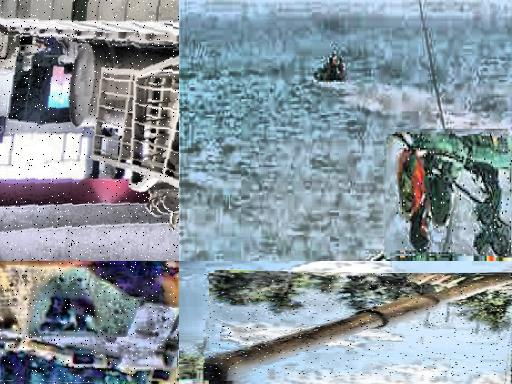tanks: (1, 1, 180, 201), (204, 275, 512, 378), (1, 262, 180, 384), (396, 135, 512, 260)
